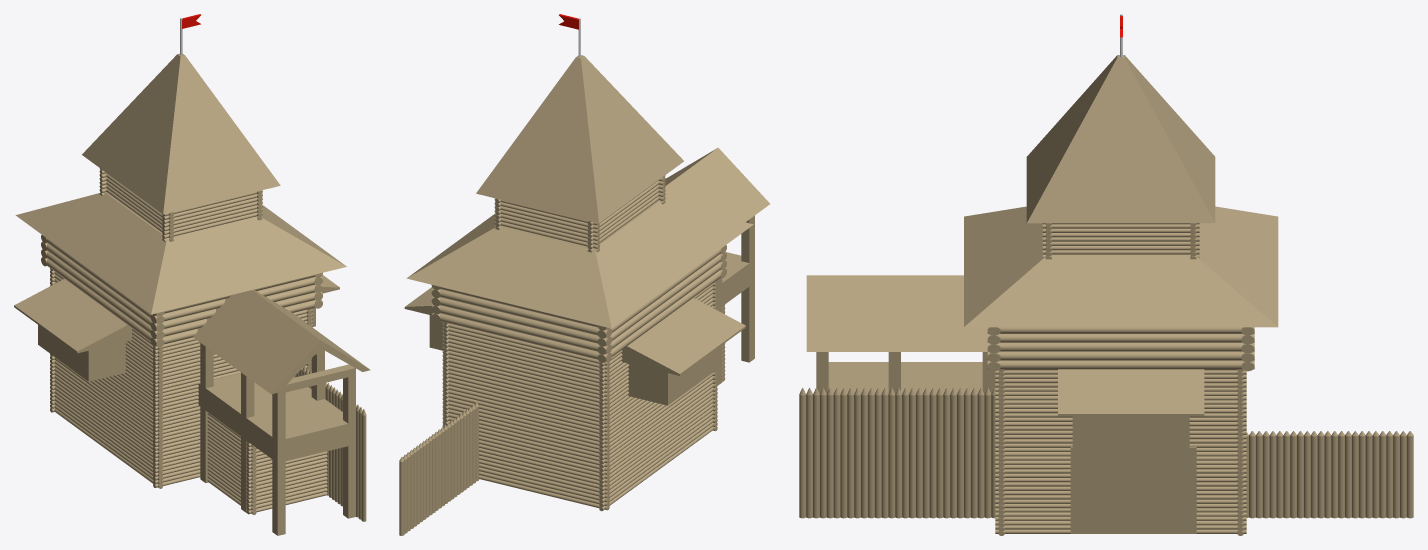
The model's file is big_grad_n.glb.
3 views of the same model, side by side, from view 1: azimuth 30°, elevation 25°; view 2: azimuth 150°, elevation 25°; view 3: azimuth 270°, elevation 25° (orthographic). The views are drawn at different scales.
Parts seen in each view (by area): view 1: Цилиндр.011; view 2: Цилиндр.011; view 3: Цилиндр.011.
Boxes of the visible parts, <box> form: Цилиндр.011: <box>14,14,370,535</box>; Цилиндр.011: <box>399,14,769,535</box>; Цилиндр.011: <box>799,14,1413,535</box>.
Size of the model in its own units: 12 by 18 by 21.
